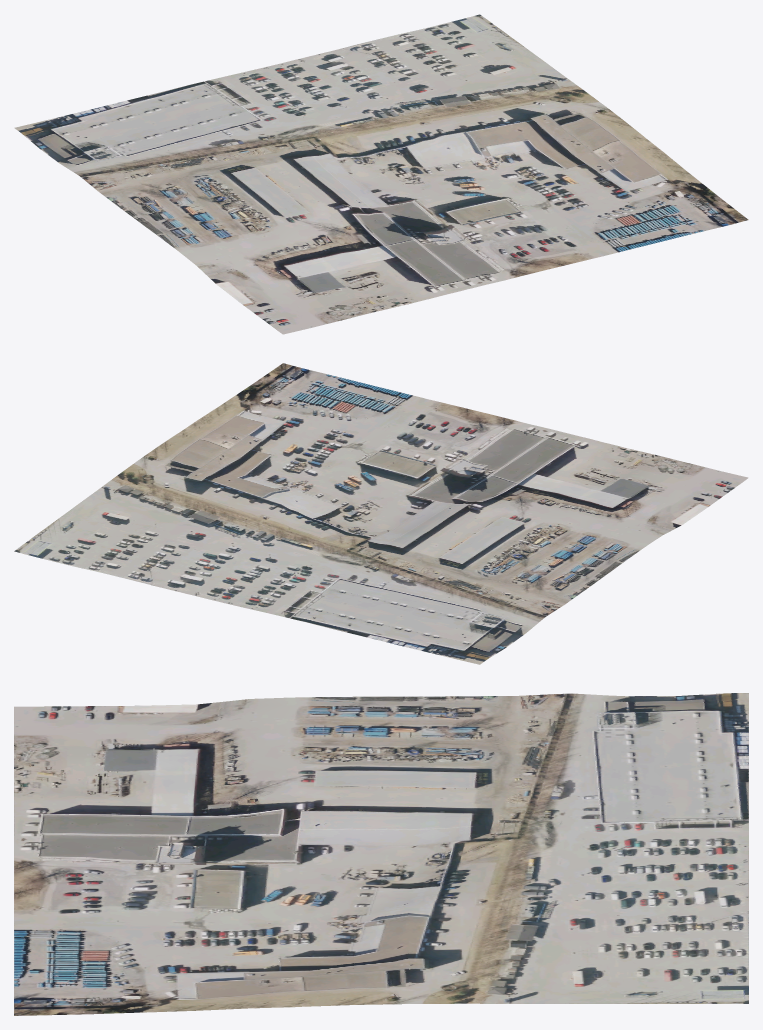
File: CM_Terrain_24488206_6818770.fbx
3 views of the same model, one above another, from view 1: azimuth 30°, elevation 25°; view 2: azimuth 150°, elevation 25°; view 3: azimuth 270°, elevation 25° (orthographic). The views are drawn at different scales.
Visible parts, largest first — view 1: CM_Terrain_24488206_6818770_LOD0; view 2: CM_Terrain_24488206_6818770_LOD0; view 3: CM_Terrain_24488206_6818770_LOD0.
Boxes of the visible parts, x1,y1,x2,y2 form: CM_Terrain_24488206_6818770_LOD0: (14, 14, 748, 334); CM_Terrain_24488206_6818770_LOD0: (14, 363, 748, 664); CM_Terrain_24488206_6818770_LOD0: (14, 693, 748, 1015).
Size of what is drawn, in the model's own units: 205 by 5.68 by 205.
